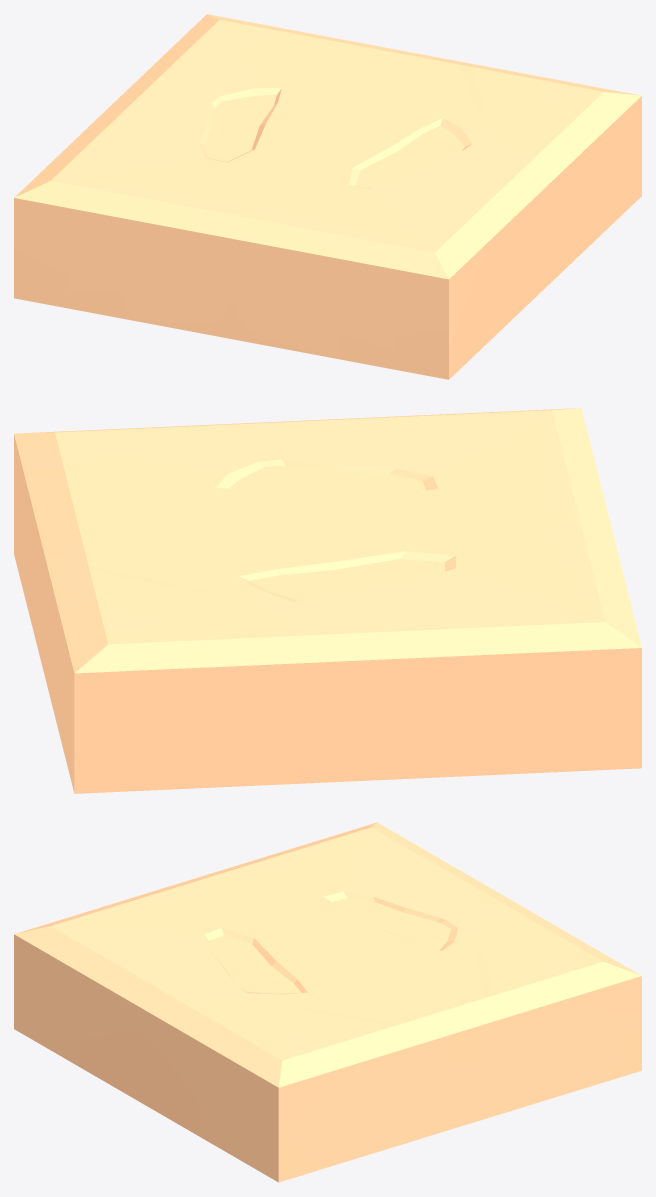
The model's file is lvl1_T_switch2.glb.
3 views of the same model, one above another, from view 1: azimuth 30°, elevation 25°; view 2: azimuth 150°, elevation 25°; view 3: azimuth 270°, elevation 25° (orthographic). The views are drawn at different scales.
Visible parts, largest first — view 1: lvl1_t_switch2; view 2: lvl1_t_switch2; view 3: lvl1_t_switch2.
Boxes of the visible parts, x1=… form: lvl1_t_switch2: x1=14, y1=14, x2=641, y2=379; lvl1_t_switch2: x1=14, y1=408, x2=641, y2=793; lvl1_t_switch2: x1=14, y1=822, x2=641, y2=1182.
Bounding box in the file's own units: 1.22 × 0.2256 × 1.22.
Materials: 1 (1 with a texture image).
